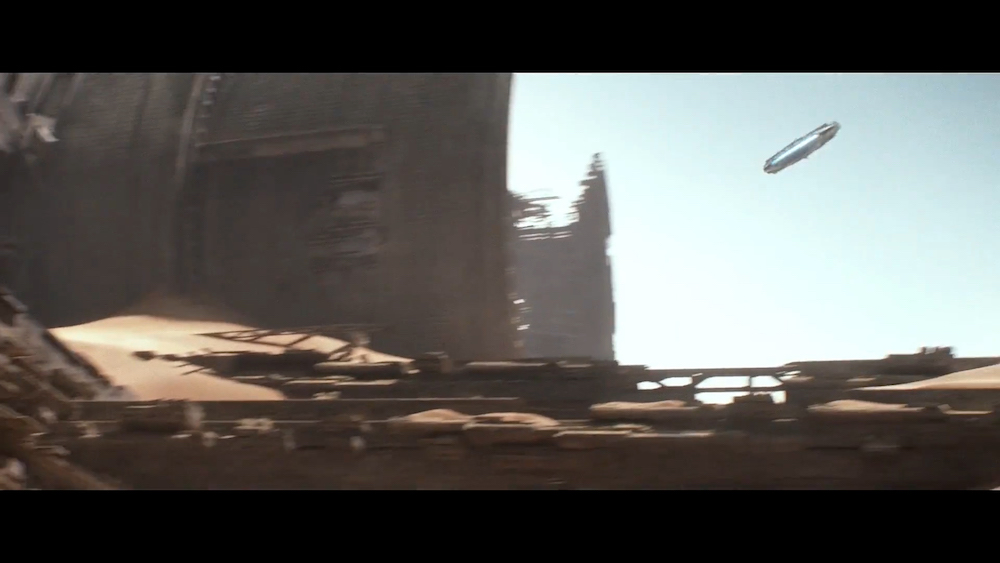Millennium Falcon: (763, 119, 843, 178)
